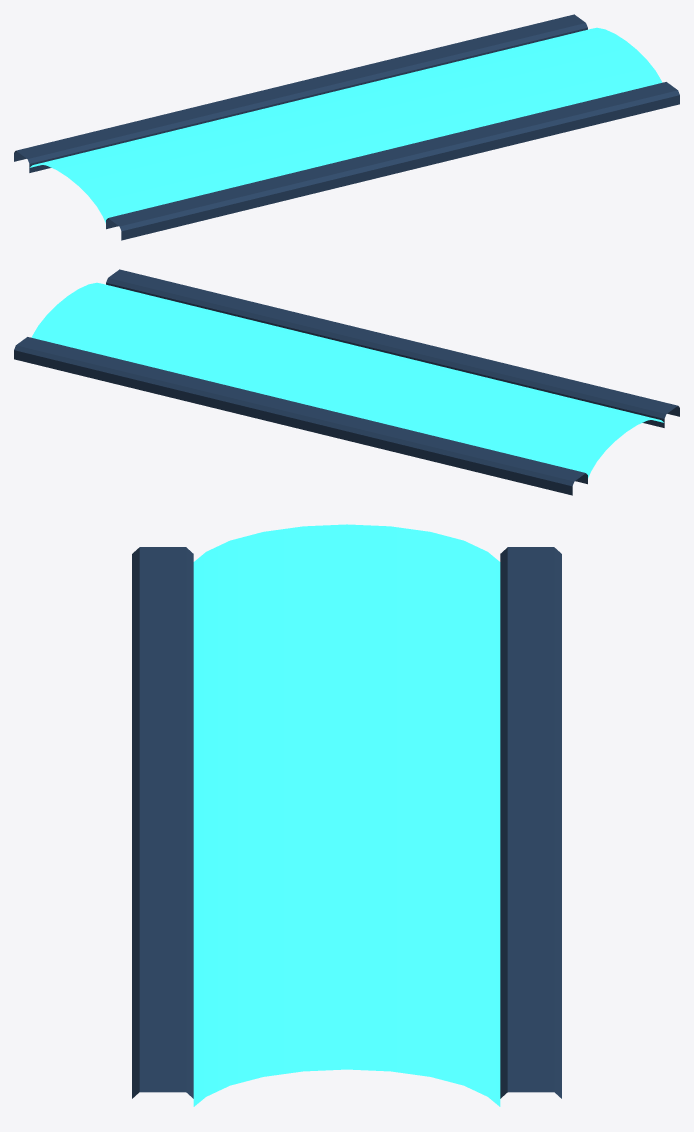
Rendered from Light_Trim_01_Straight_30.fbx.
3 renders of one model, top to bottom at view 1: azimuth 30°, elevation 25°; view 2: azimuth 150°, elevation 25°; view 3: azimuth 270°, elevation 25°, orthographic. The views are drawn at different scales.
Parts seen in each view (by area): view 1: Light_Trim_01_Straight_30.001; view 2: Light_Trim_01_Straight_30.001; view 3: Light_Trim_01_Straight_30.001.
Boxes of the visible parts, x1=… form: Light_Trim_01_Straight_30.001: x1=14, y1=14, x2=679, y2=240; Light_Trim_01_Straight_30.001: x1=14, y1=269, x2=679, y2=495; Light_Trim_01_Straight_30.001: x1=132, y1=524, x2=561, y2=1106.
Bounding box in the file's own units: 0.3 × 0.0123 × 0.1.
